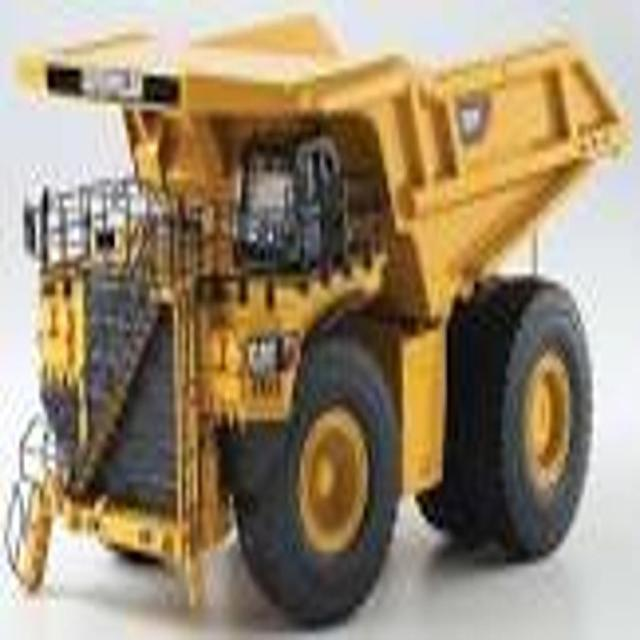dump_truck: (4, 24, 618, 608)
